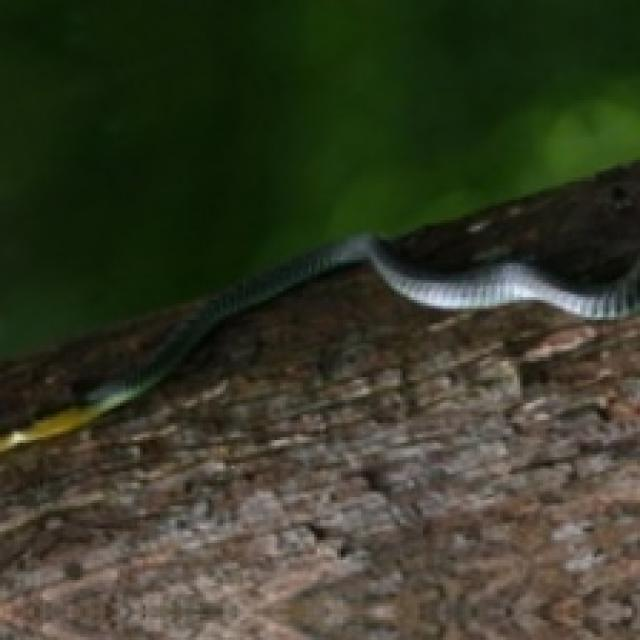paradise tree snake: (0, 163, 637, 637)
